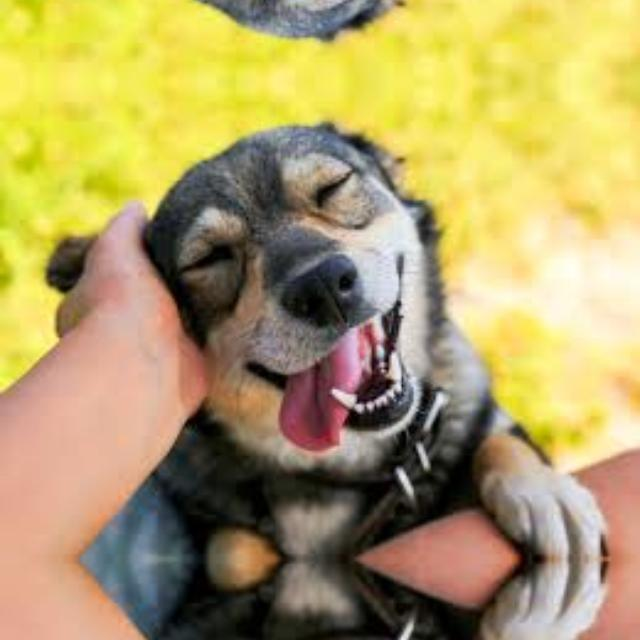dog: (138, 114, 582, 558), (138, 559, 581, 640), (138, 0, 581, 48)
